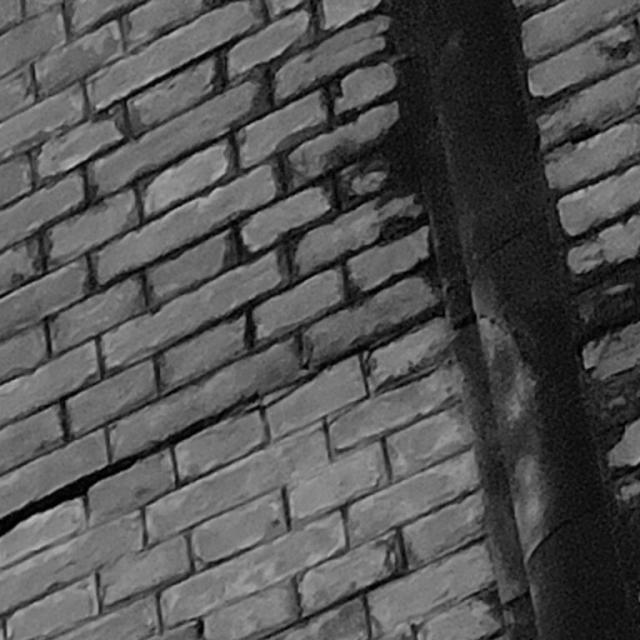crack: (1, 389, 259, 535)
